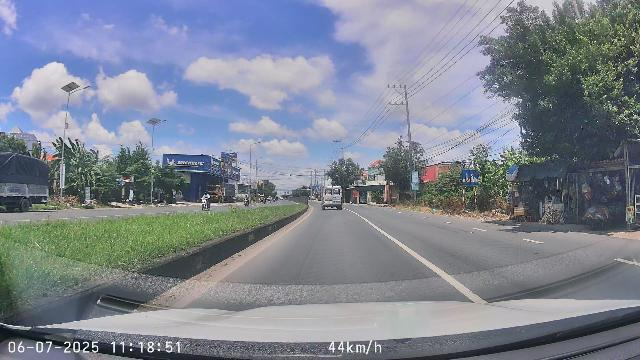421-ket-thuc-khu-dong-dan-cu: (462, 169, 479, 186)
